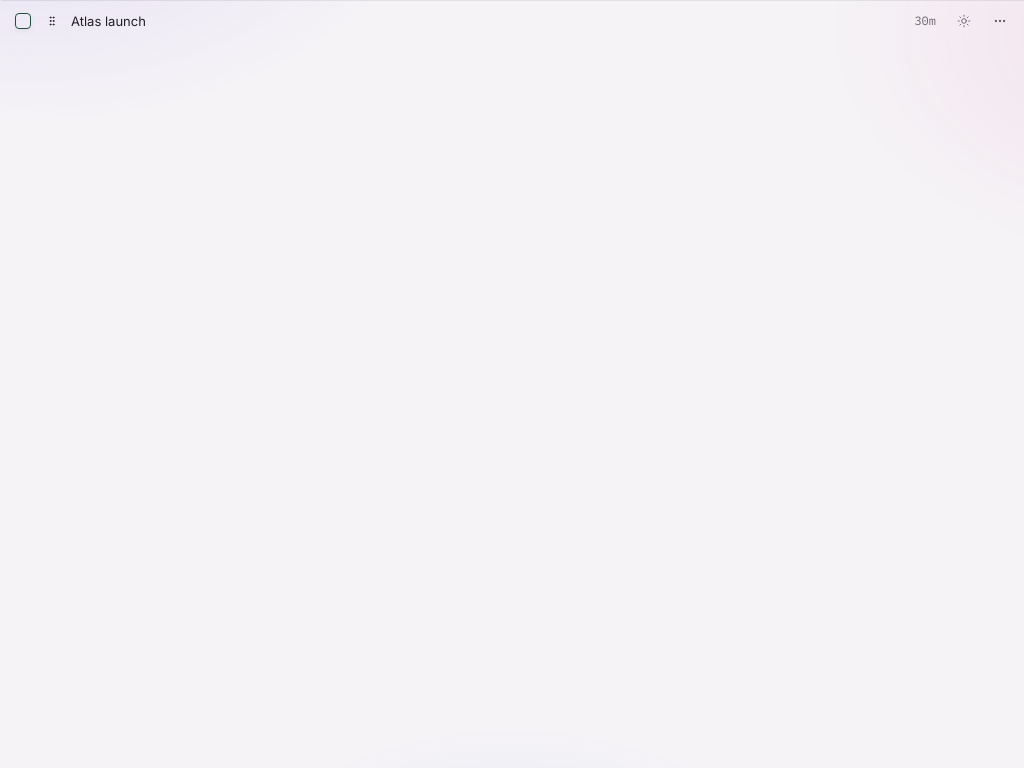
Test: TaskRow — quiet row (chunk 71) › (6) ⋯ → Set reminder… / Set due date… open their pickers on a row with no chip
Press Enter in the button named "Actions for \"Atlas launch\"", box [988,9,1012,33]
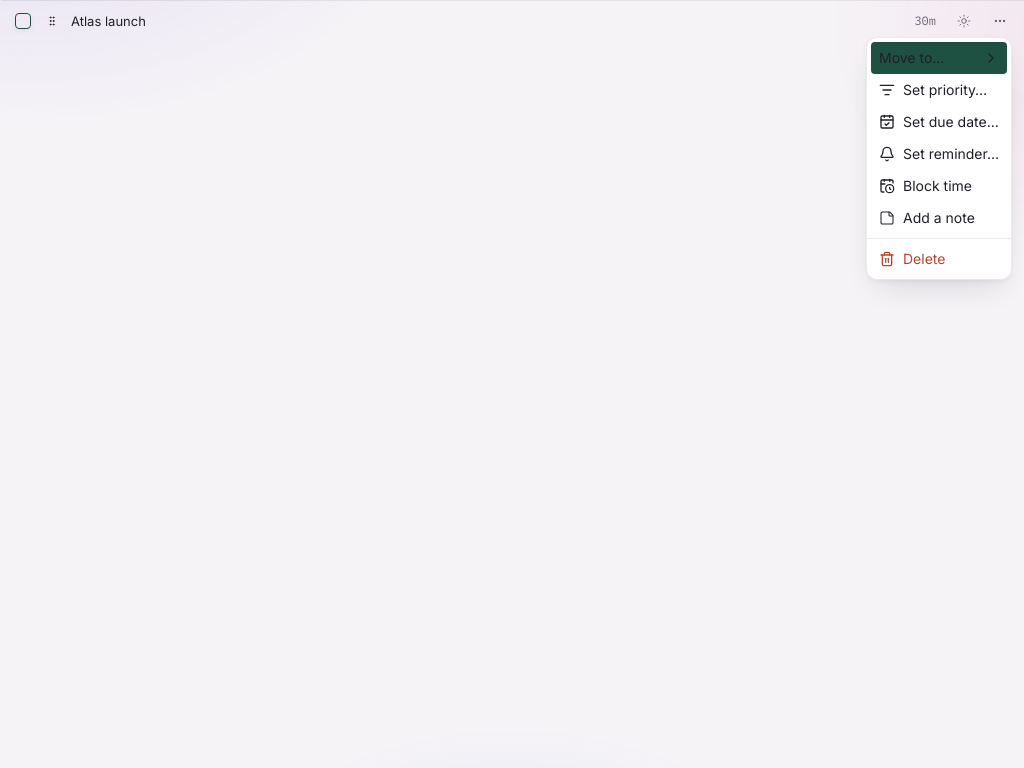
Click the menu item "Set reminder…" at (939, 154), box [879,145,999,162]
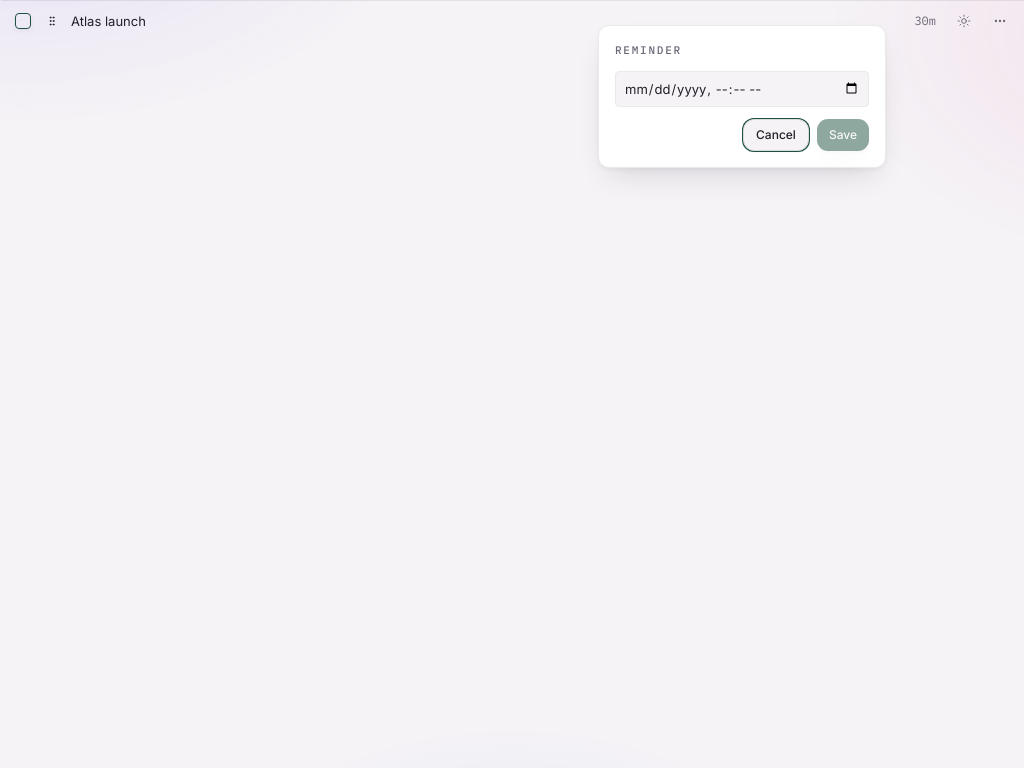
Check: the field named "Reminder date and time" is shown, box [615,70,869,106]
